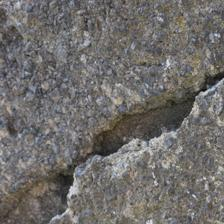Crack: (40, 37, 182, 135)
